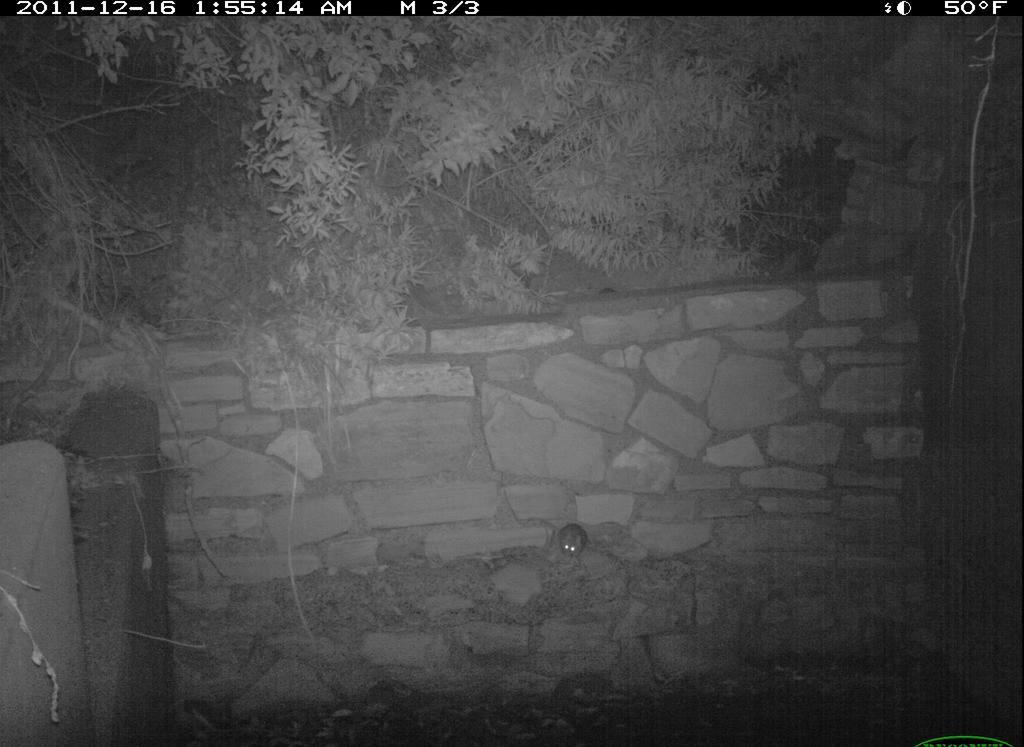rodent: (547, 519, 597, 556)
